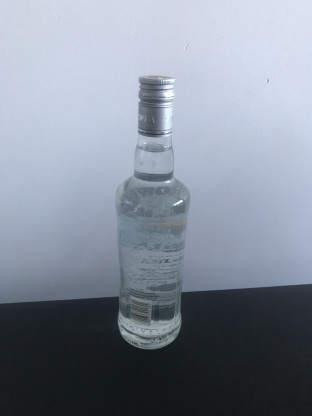nakretka: (136, 74, 176, 138)
